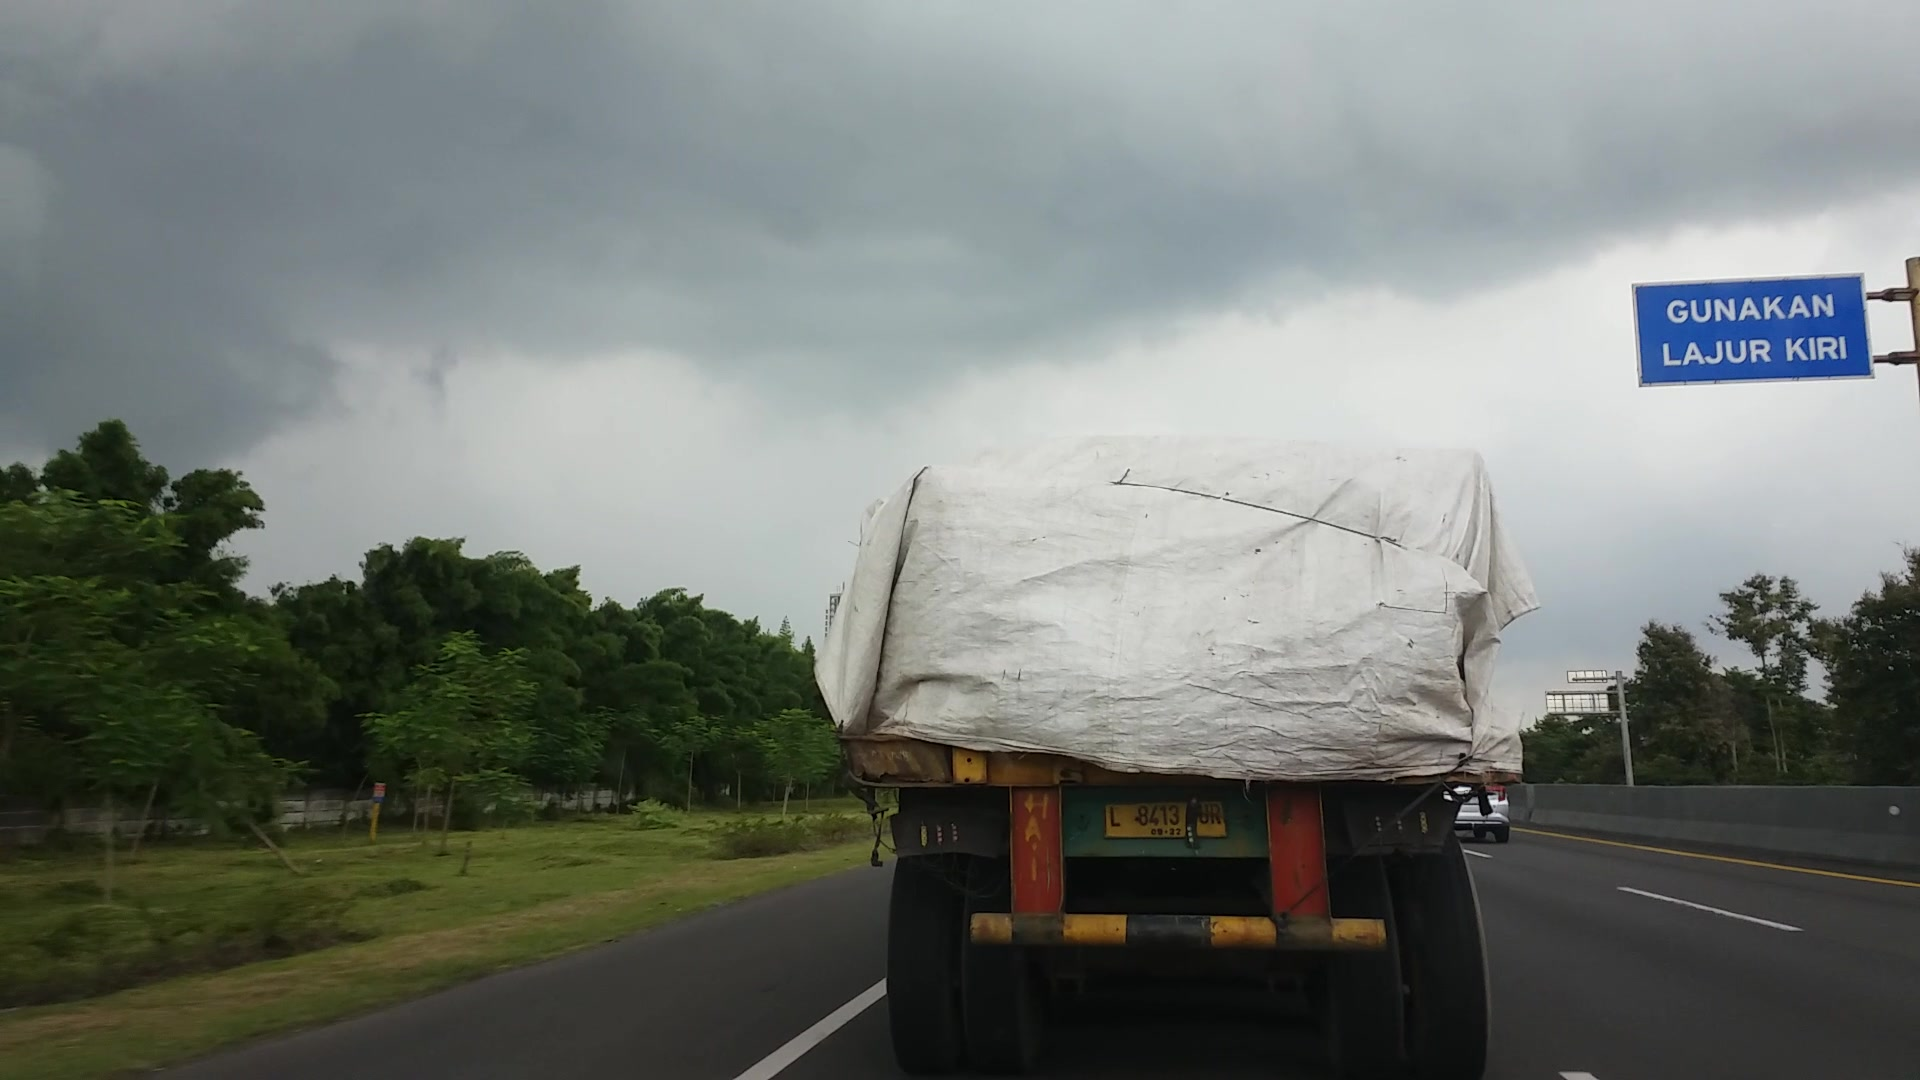plate_positive: (1102, 800, 1226, 837)
